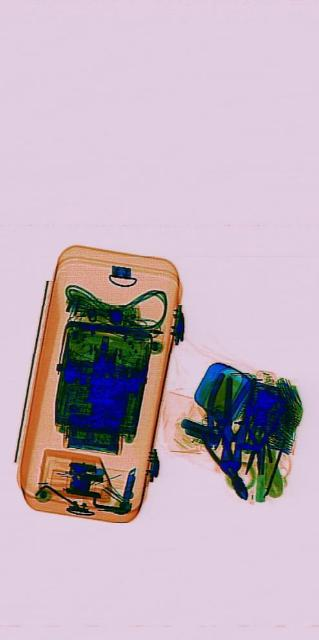Pliers: (195, 403, 253, 513), (214, 368, 254, 478), (244, 392, 277, 474)
